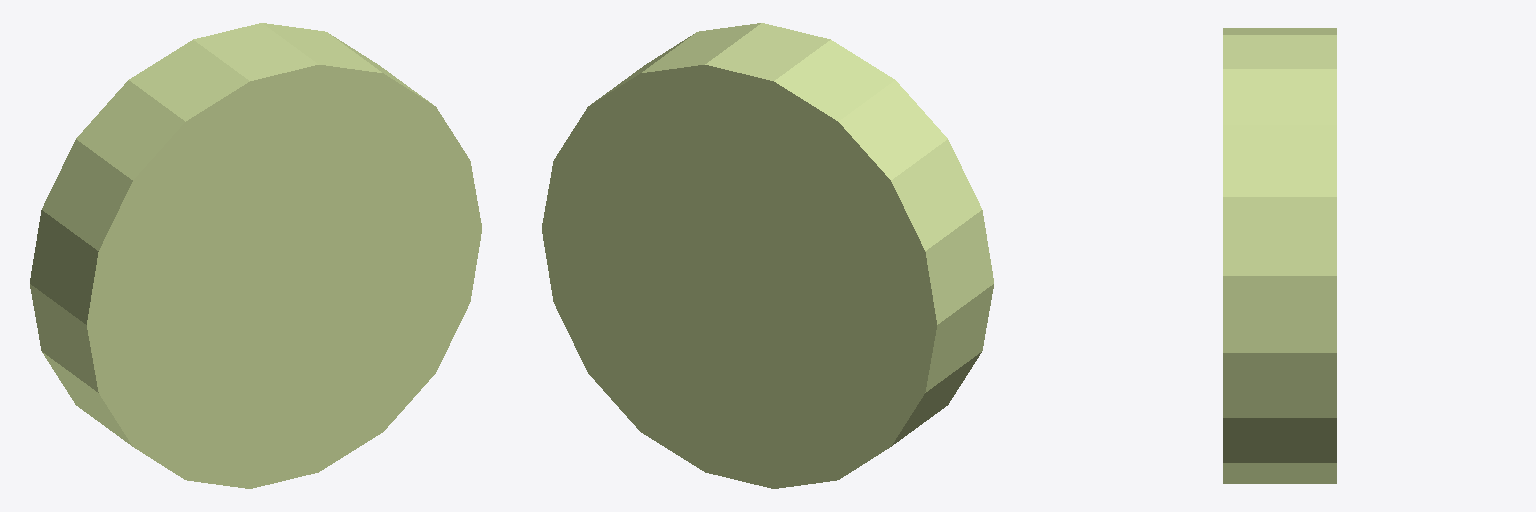
File: coin.obj
3 renders of one model, left to right at view 1: azimuth 30°, elevation 25°; view 2: azimuth 150°, elevation 25°; view 3: azimuth 270°, elevation 25°, orthographic.
Visible parts, largest first — view 1: Cylinder001; view 2: Cylinder001; view 3: Cylinder001.
Boxes of the visible parts, box(x1,y1,x2,y2) form: Cylinder001: box(30, 23, 481, 488); Cylinder001: box(542, 23, 993, 488); Cylinder001: box(1223, 28, 1336, 483).
Bounding box in the file's own units: 1 × 0.9848 × 0.25.